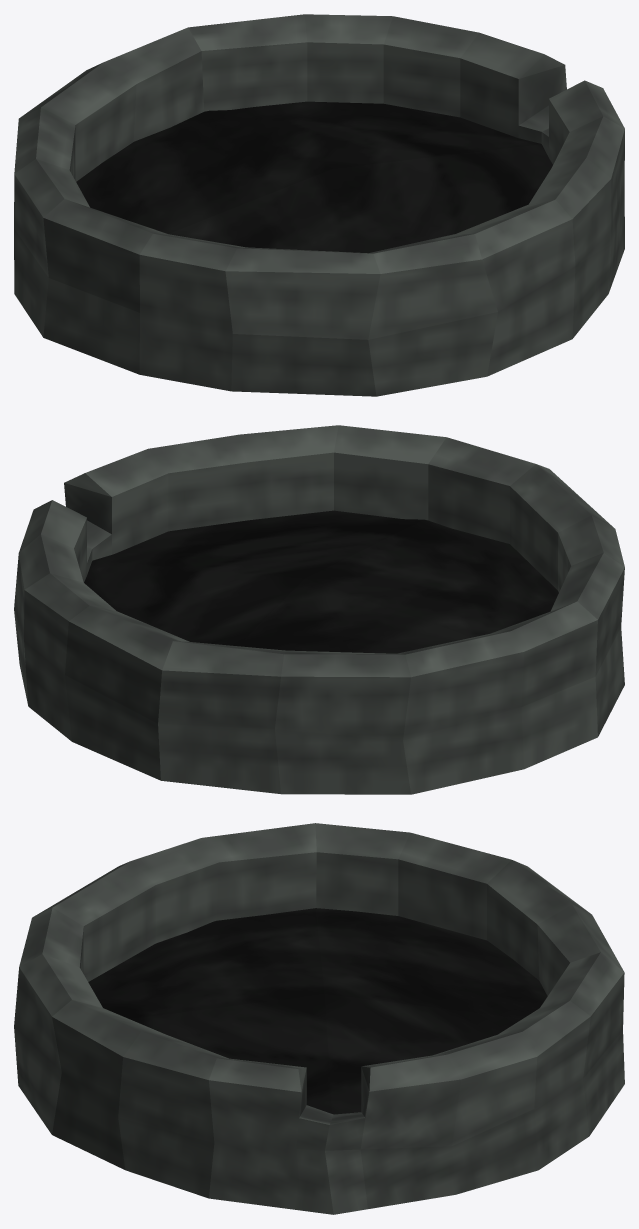
Rendered from Forge.fbx.
3 renders of one model, top to bottom at view 1: azimuth 30°, elevation 25°; view 2: azimuth 150°, elevation 25°; view 3: azimuth 270°, elevation 25°, orthographic. The views are drawn at different scales.
Visible parts, largest first — view 1: Forge; view 2: Forge; view 3: Forge.
Boxes of the visible parts, left/top/right/bottom form: Forge: left=14, top=14, right=624, bottom=396; Forge: left=14, top=425, right=624, bottom=794; Forge: left=14, top=823, right=624, bottom=1214.
Bounding box in the file's own units: 537 × 122 × 514.
1 material, 1 textured.
